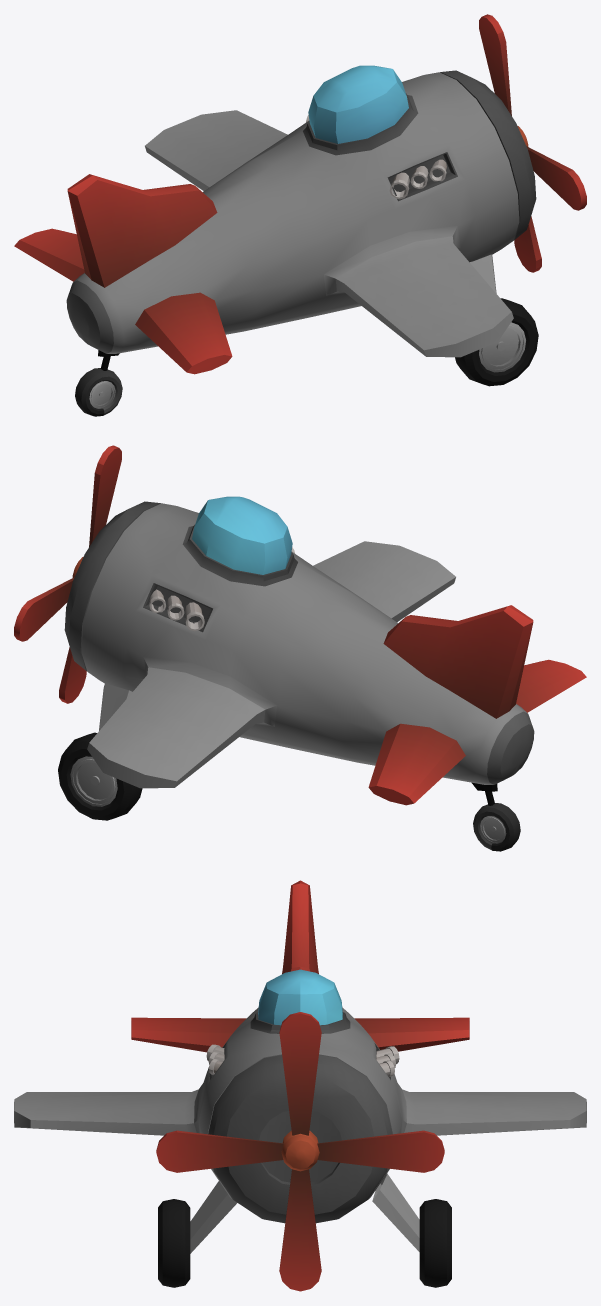
The model's file is avion.fbx.
The picture shows the model from 3 angles, top to bottom: view 1: azimuth 30°, elevation 25°; view 2: azimuth 150°, elevation 25°; view 3: azimuth 270°, elevation 25°; orthographic projection. The views are drawn at different scales.
Parts seen in each view (by area): view 1: Cylinder.028; view 2: Cylinder.028; view 3: Cylinder.028.
Boxes of the visible parts, x1,y1,x2,y2 form: Cylinder.028: (14, 14, 586, 416); Cylinder.028: (14, 445, 586, 851); Cylinder.028: (14, 880, 586, 1291).
Size of the model in its own units: 1403 by 879 by 1523.
